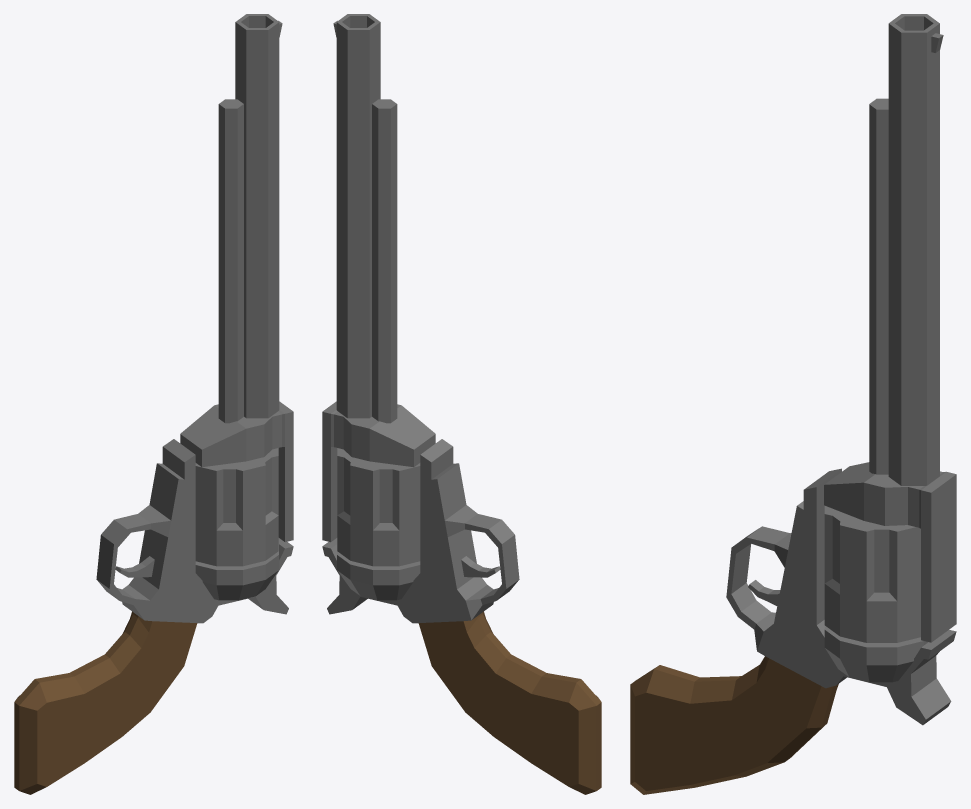
The model's file is Revolver.glb.
3 renders of one model, left to right at view 1: azimuth 30°, elevation 25°; view 2: azimuth 150°, elevation 25°; view 3: azimuth 330°, elevation 25°, orthographic. The views are drawn at different scales.
Visible parts, largest first — view 1: Revolver; view 2: Revolver; view 3: Revolver.
Part boxes in pixels (left/top/right/bottom): Revolver: left=14, top=14, right=293, bottom=794; Revolver: left=322, top=14, right=601, bottom=794; Revolver: left=630, top=14, right=956, bottom=794.
Bounding box in the file's own units: 0.1565 × 0.4019 × 0.05.
Materials: 1 (1 with a texture image).
